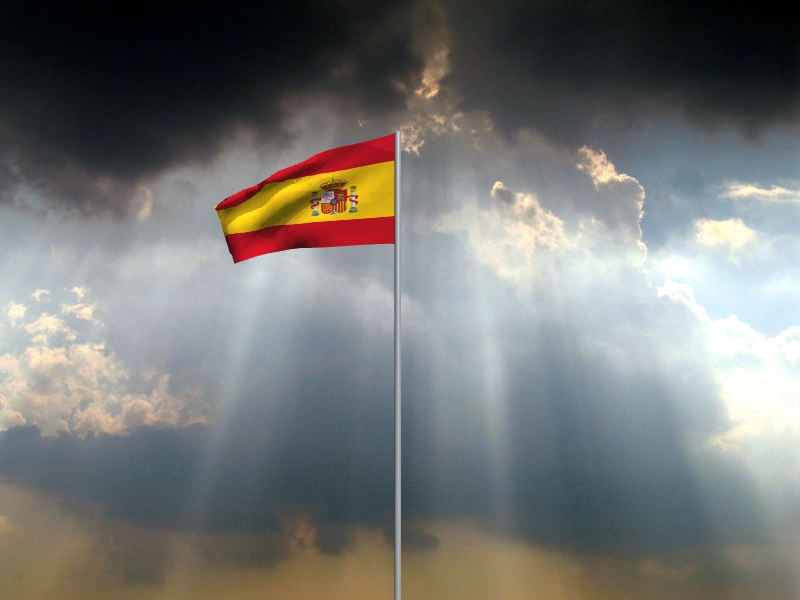es: (214, 134, 395, 266)
